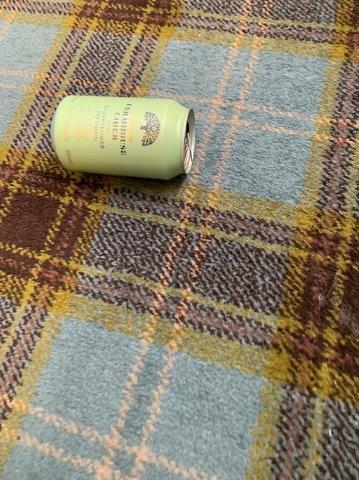kaleng: (52, 96, 195, 179)
